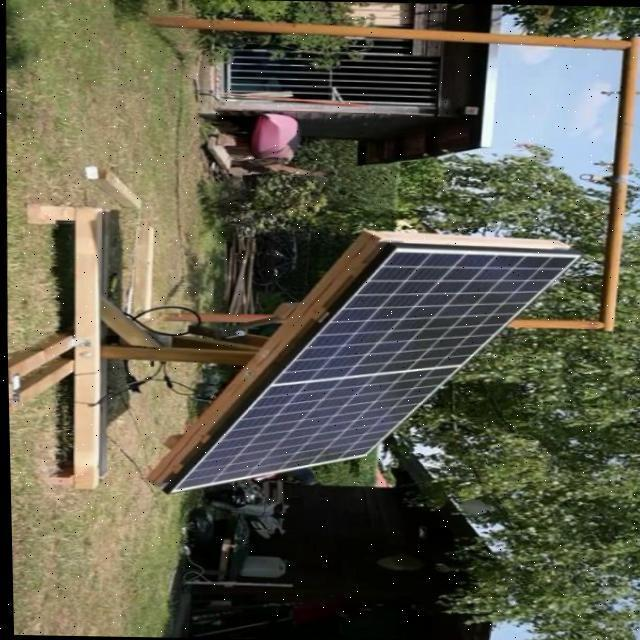Normal Solar Panel: (160, 242, 578, 499)
